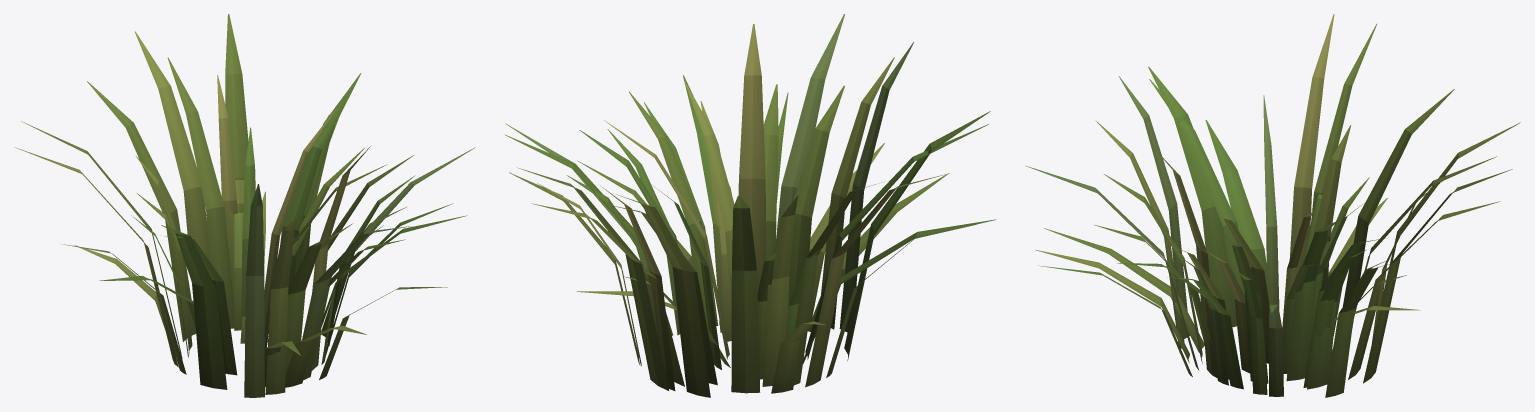
Rendered from w11-lookout-verge.glb.
3 renders of one model, left to right at view 1: azimuth 30°, elevation 25°; view 2: azimuth 150°, elevation 25°; view 3: azimuth 270°, elevation 25°, orthographic. The views are drawn at different scales.
Parts seen in each view (by area): view 1: Lookout understory | verge; view 2: Lookout understory | verge; view 3: Lookout understory | verge.
Boxes of the visible parts, x1=… form: Lookout understory | verge: x1=14, y1=14, x2=475, y2=397; Lookout understory | verge: x1=505, y1=14, x2=996, y2=397; Lookout understory | verge: x1=1025, y1=14, x2=1520, y2=397.
Bounding box in the file's own units: 0.9148 × 0.4961 × 0.8936.
